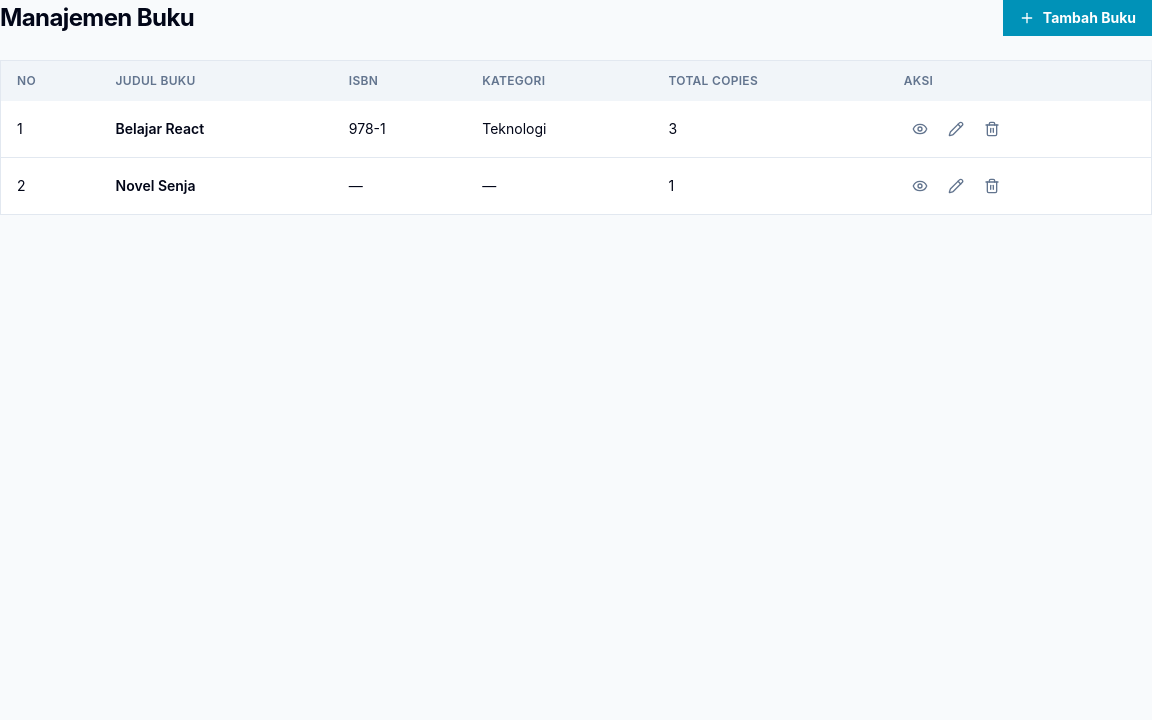
Test: BooksPage › falls back to a dash when audit users are null
Expected: the text "Belajar React" is shown, 100,101 -> 333,158
Click the button named "Lihat detail" in the row of "Novel Senja": (920, 186) 904,170 -> 936,202
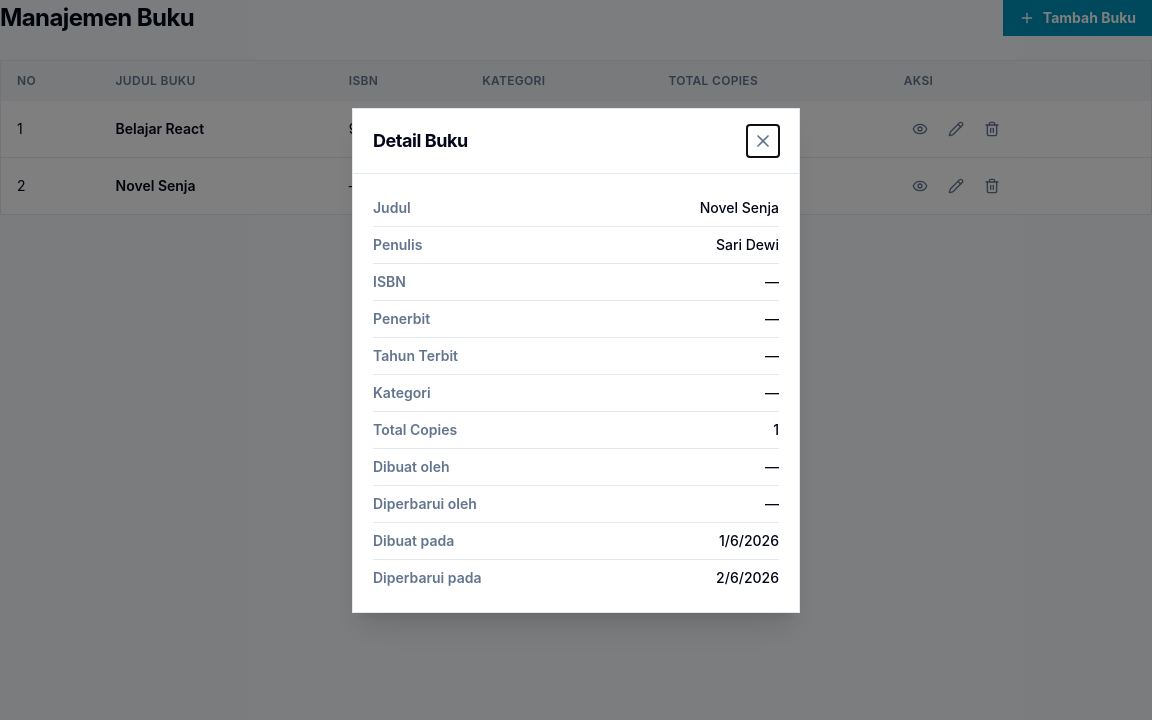
Expected: the text "—" is shown 6 times, 765,272 -> 779,292; 765,308 -> 779,328; 765,346 -> 779,366; 765,382 -> 779,402; 765,456 -> 779,476; 765,494 -> 779,514
